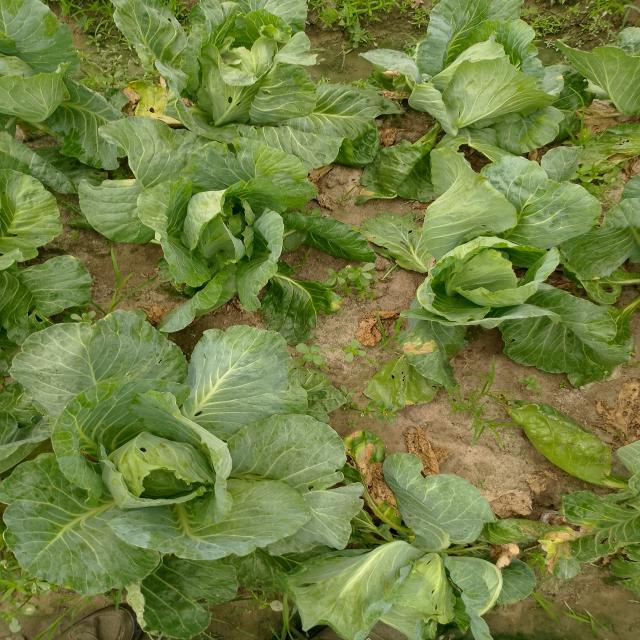Cabbage: (0, 303, 344, 618), (81, 0, 414, 147), (104, 121, 352, 318), (383, 162, 600, 315), (384, 0, 558, 176), (0, 0, 98, 285), (358, 464, 514, 634)
